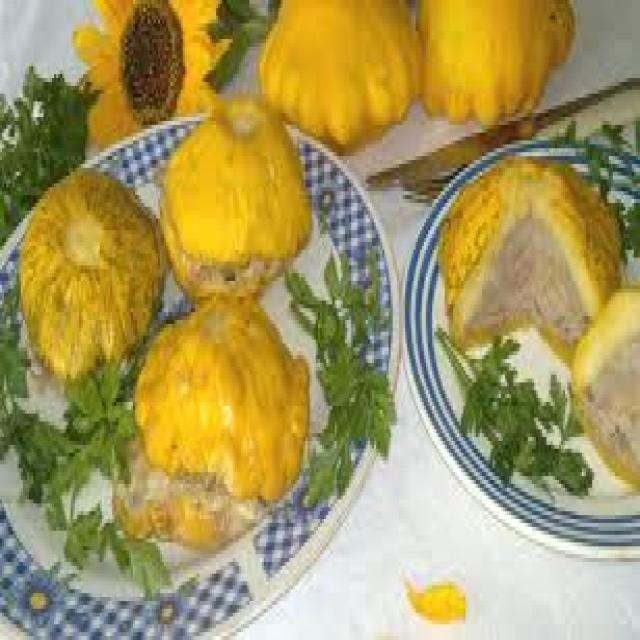squash-patisson: (122, 283, 332, 547), (428, 148, 633, 348), (12, 122, 172, 377), (140, 88, 320, 293), (408, 0, 596, 152), (259, 0, 427, 160), (571, 281, 640, 513)
